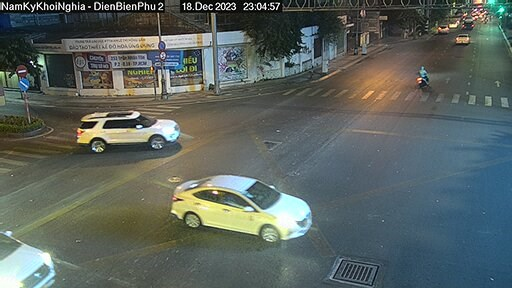car: (170, 172, 317, 247), (74, 110, 184, 154), (455, 30, 474, 47), (437, 21, 450, 37)
motorbike: (416, 64, 432, 89)
